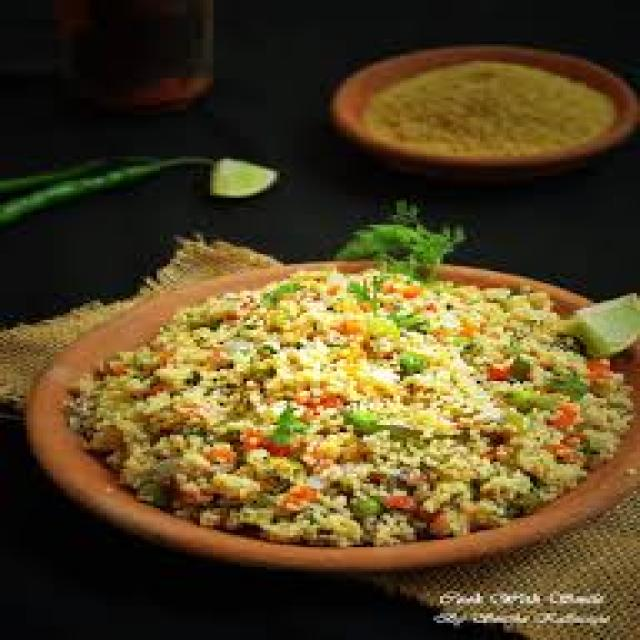POHA: (63, 269, 613, 537)
